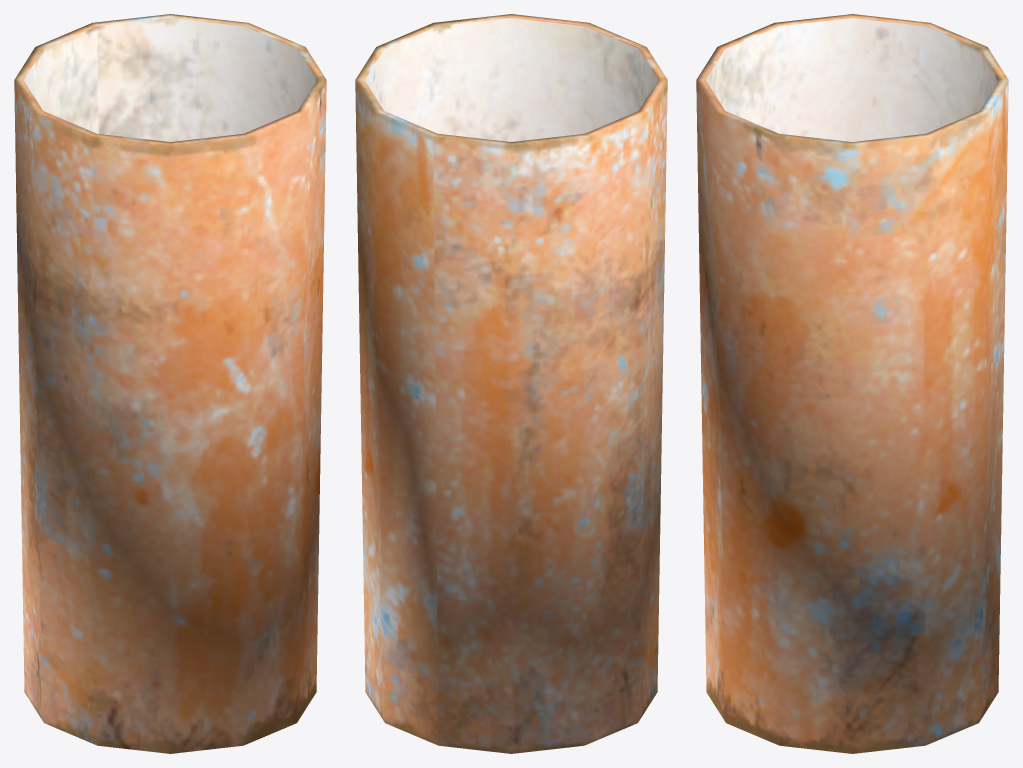
Rendered from tincanVase02.FBX.
3 views of the same model, side by side, from view 1: azimuth 30°, elevation 25°; view 2: azimuth 150°, elevation 25°; view 3: azimuth 270°, elevation 25° (orthographic).
Visible parts, largest first — view 1: SM_TinCanVase02; view 2: SM_TinCanVase02; view 3: SM_TinCanVase02.
Boxes of the visible parts, x1,y1,x2,y2 form: SM_TinCanVase02: (14,14,326,753); SM_TinCanVase02: (355,14,667,753); SM_TinCanVase02: (696,14,1008,753).
Bounding box in the file's own units: 13.8 × 29.84 × 13.8.
Materials: 1 (1 with a texture image).
